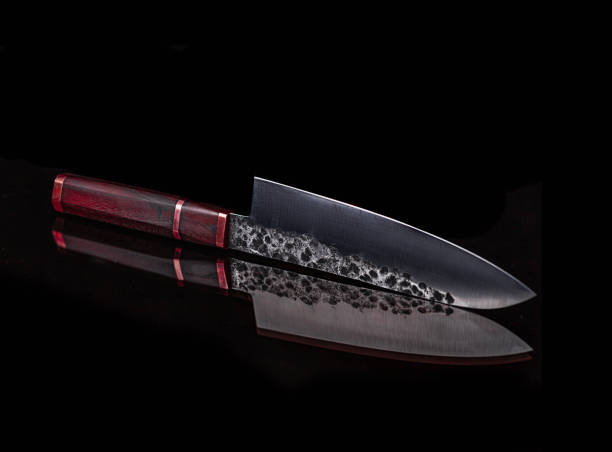knife: (48, 170, 539, 312)
